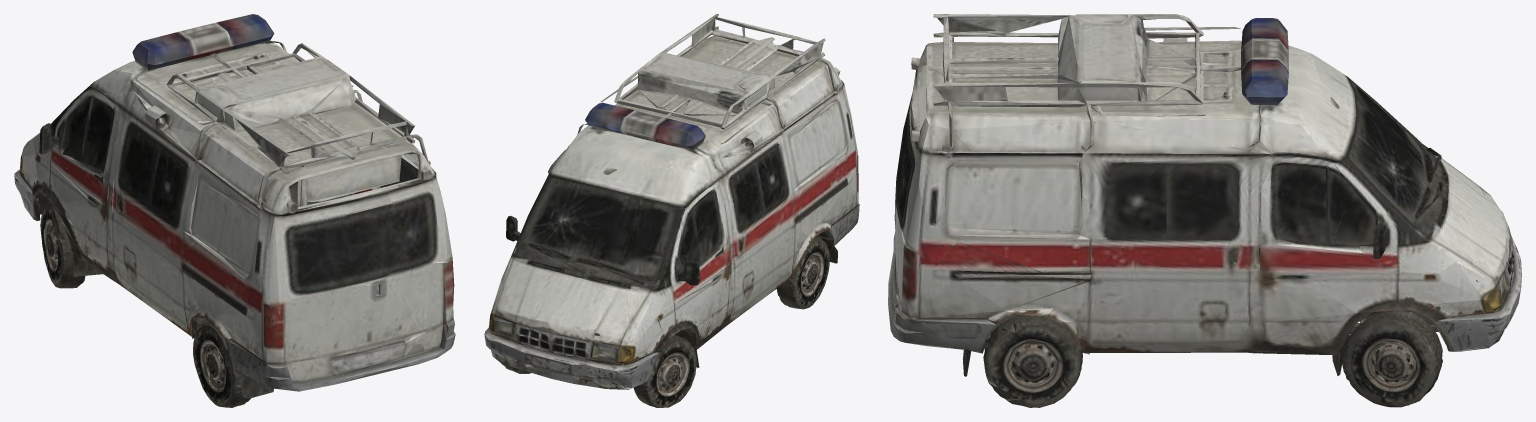
Rendered from gazelle_ambulance_17k.glb.
The picture shows the model from 3 angles, left to right: view 1: azimuth 30°, elevation 25°; view 2: azimuth 150°, elevation 25°; view 3: azimuth 270°, elevation 25°; orthographic projection. The views are drawn at different scales.
Parts seen in each view (by area): view 1: output_unwrapped; view 2: output_unwrapped; view 3: output_unwrapped.
Boxes of the visible parts, x1,y1,x2,y2 form: output_unwrapped: (14, 14, 455, 407); output_unwrapped: (484, 14, 859, 407); output_unwrapped: (888, 14, 1521, 407).
Bounding box in the file's own units: 2.6 × 3.06 × 5.6.
1 material, 1 textured.
